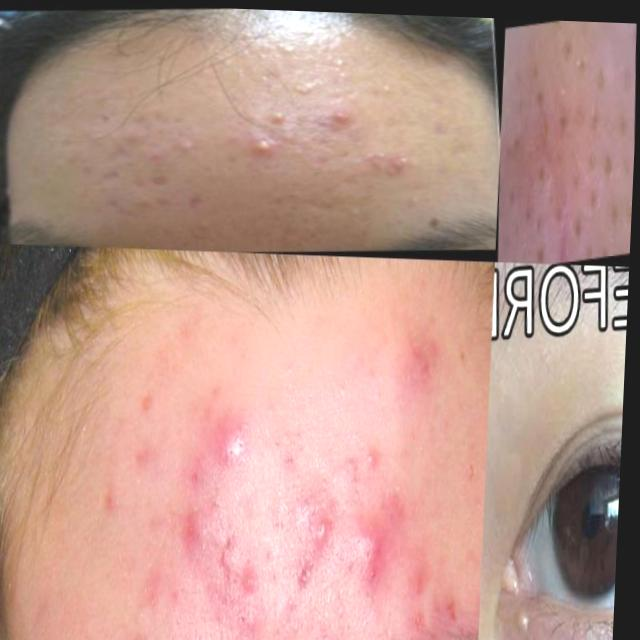8: (400, 311, 451, 400)
9: (303, 500, 340, 557), (238, 133, 295, 165), (317, 102, 374, 126), (240, 560, 266, 610)
blackheads: (352, 434, 397, 485), (136, 163, 171, 200), (379, 150, 410, 189), (181, 186, 214, 219), (295, 556, 324, 593), (92, 166, 131, 193), (519, 597, 542, 637)
dark spot: (546, 86, 581, 152), (602, 141, 618, 197), (520, 193, 536, 235)
pustules: (205, 396, 266, 482), (178, 501, 211, 558), (362, 516, 391, 574)
